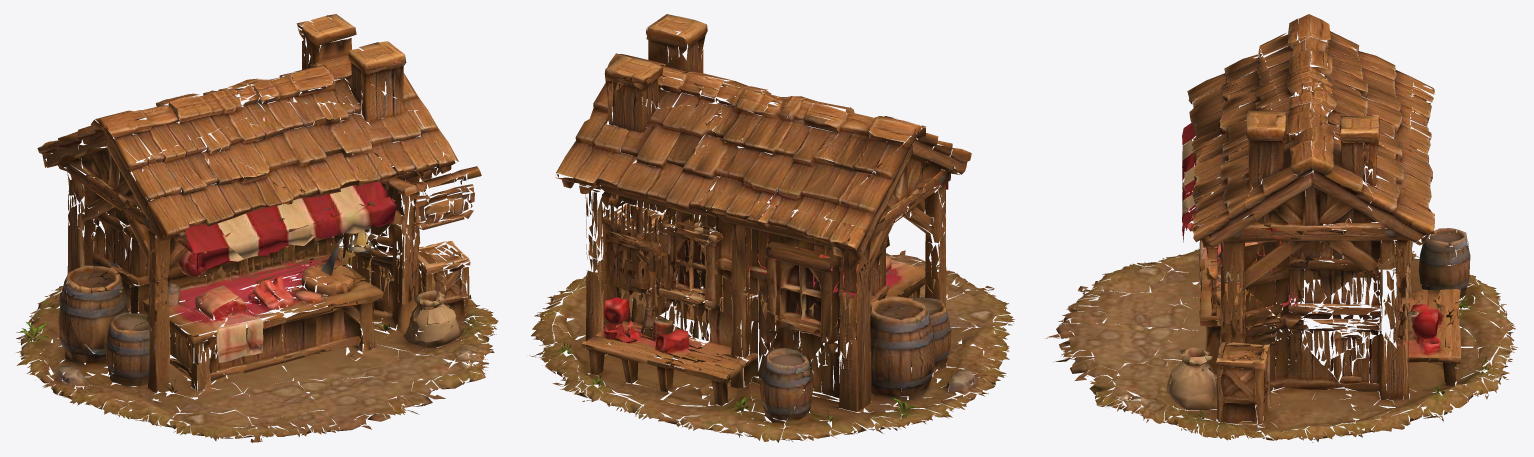
The model's file is boucherie_t1.glb.
The picture shows the model from 3 angles, left to right: view 1: azimuth 30°, elevation 25°; view 2: azimuth 150°, elevation 25°; view 3: azimuth 270°, elevation 25°; orthographic projection. The views are drawn at different scales.
Visible parts, largest first — view 1: boucherie_t1; view 2: boucherie_t1; view 3: boucherie_t1.
Boxes of the visible parts, x1,y1,x2,y2 form: boucherie_t1: (16,14,498,442); boucherie_t1: (529,14,1014,442); boucherie_t1: (1045,14,1517,442).
Bounding box in the file's own units: 0.9978 × 0.618 × 0.965.
1 material, 1 textured.
